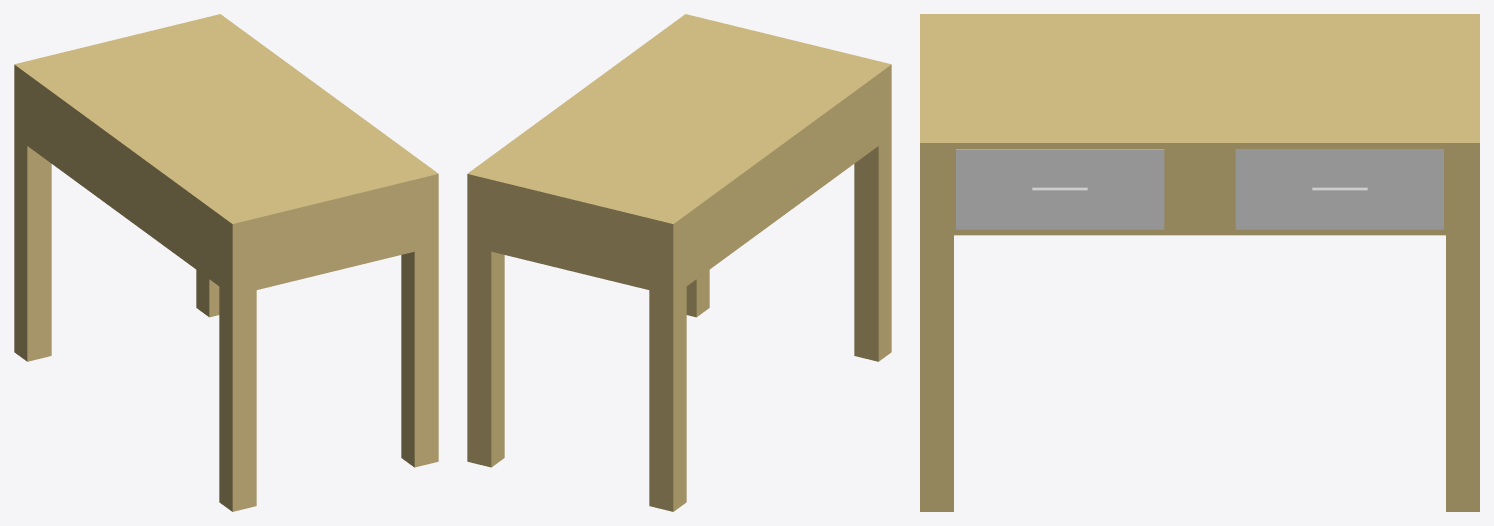
The model's file is table.fbx.
3 renders of one model, left to right at view 1: azimuth 30°, elevation 25°; view 2: azimuth 150°, elevation 25°; view 3: azimuth 270°, elevation 25°, orthographic. The views are drawn at different scales.
Visible parts, largest first — view 1: Table; view 2: Table; view 3: Table, cabinet01, cabinet02.
Part boxes in pixels (left/top/right/bottom): Table: left=14, top=14, right=438, bottom=511; Table: left=467, top=14, right=891, bottom=511; Table: left=920, top=14, right=1479, bottom=511; cabinet01: left=956, top=149, right=1164, bottom=229; cabinet02: left=1235, top=149, right=1443, bottom=229.
Size of the model in its own units: 0.6138 by 0.8 by 1.1.
